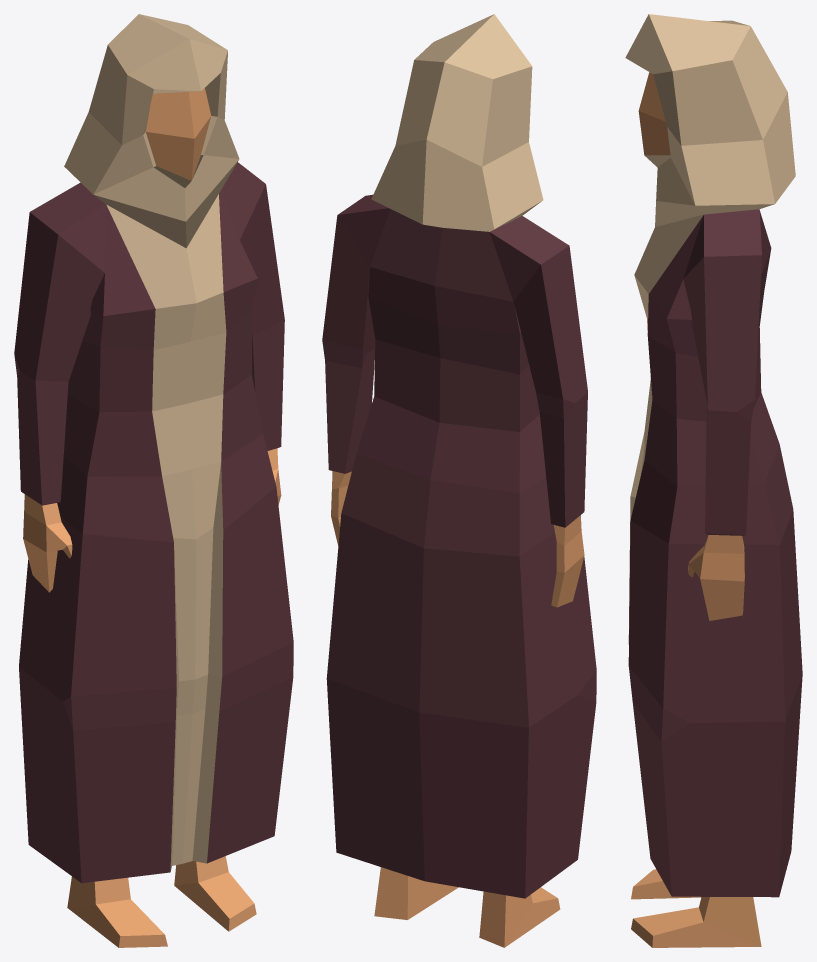
The model's file is woman-nanny.fbx.
3 views of the same model, side by side, from view 1: azimuth 30°, elevation 25°; view 2: azimuth 150°, elevation 25°; view 3: azimuth 270°, elevation 25° (orthographic). The views are drawn at different scales.
Visible parts, largest first — view 1: woman-nanny; view 2: woman-nanny; view 3: woman-nanny.
Boxes of the visible parts, x1,y1,x2,y2 form: woman-nanny: (14, 14, 293, 947); woman-nanny: (322, 14, 596, 947); woman-nanny: (625, 14, 802, 947).
Bounding box in the file's own units: 0.5405 × 1.84 × 0.3277.
